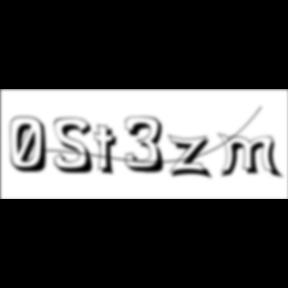0: (10, 115, 55, 174)
3: (125, 116, 171, 176)
S: (54, 117, 100, 176)
m: (217, 132, 285, 181)
t: (94, 124, 124, 179)
z: (168, 134, 216, 182)
